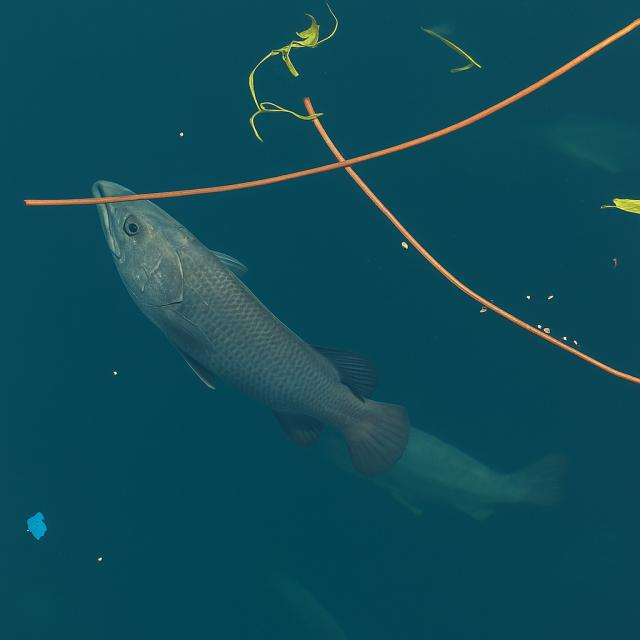ikan: (90, 178, 412, 478)
